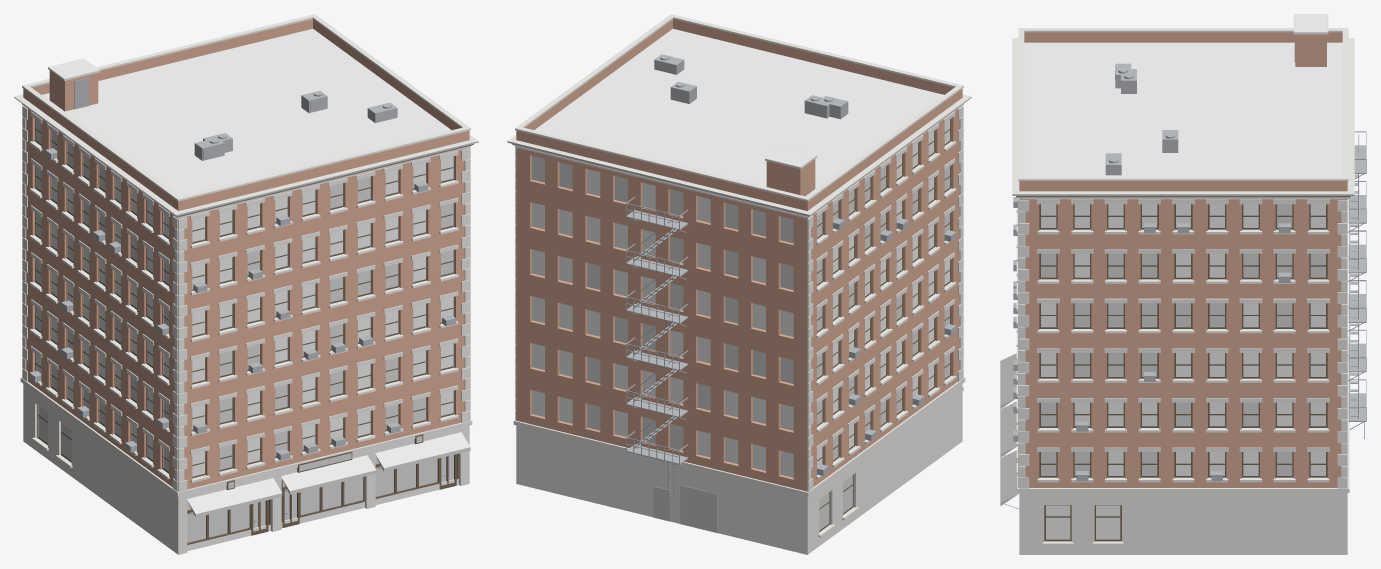
Rendered from midtown_w78f6.glb.
3 renders of one model, left to right at view 1: azimuth 30°, elevation 25°; view 2: azimuth 150°, elevation 25°; view 3: azimuth 270°, elevation 25°, orthographic. The views are drawn at different scales.
Parts seen in each view (by area): view 1: midtown_w78f6_Walls, midtown_w78f6_Trim, midtown_w78f6_Roof, midtown_w78f6_Glass, midtown_w78f6_WindowsLit, midtown_w78f6_Frames, midtown_w78f6_Awning, midtown_w78f6_Details; view 2: midtown_w78f6_Walls, midtown_w78f6_Trim, midtown_w78f6_Roof, midtown_w78f6_Glass, midtown_w78f6_WindowsLit, midtown_w78f6_Details, midtown_w78f6_Frames, midtown_w78f6_Doors; view 3: midtown_w78f6_Walls, midtown_w78f6_Trim, midtown_w78f6_Roof, midtown_w78f6_Glass, midtown_w78f6_Frames, midtown_w78f6_WindowsLit, midtown_w78f6_Details, midtown_w78f6_Awning.
Part boxes in pixels (<box>): midtown_w78f6_Walls: <box>23,19,469,489</box>; midtown_w78f6_Trim: <box>14,14,478,554</box>; midtown_w78f6_Roof: <box>42,29,451,196</box>; midtown_w78f6_Glass: <box>36,156,453,476</box>; midtown_w78f6_WindowsLit: <box>36,119,453,542</box>; midtown_w78f6_Frames: <box>35,119,459,544</box>; midtown_w78f6_Awning: <box>187,432,470,517</box>; midtown_w78f6_Details: <box>29,77,455,521</box>; midtown_w78f6_Walls: <box>516,19,962,491</box>; midtown_w78f6_Trim: <box>507,14,971,554</box>; midtown_w78f6_Roof: <box>534,29,943,195</box>; midtown_w78f6_Glass: <box>532,119,949,477</box>; midtown_w78f6_WindowsLit: <box>532,155,949,530</box>; midtown_w78f6_Details: <box>626,54,956,498</box>; midtown_w78f6_Frames: <box>817,119,950,531</box>; midtown_w78f6_Doors: <box>653,485,717,533</box>; midtown_w78f6_Walls: <box>1019,32,1347,487</box>; midtown_w78f6_Trim: <box>1012,14,1354,554</box>; midtown_w78f6_Roof: <box>1024,14,1342,176</box>; midtown_w78f6_Glass: <box>1041,204,1325,539</box>; midtown_w78f6_Frames: <box>1016,204,1327,541</box>; midtown_w78f6_WindowsLit: <box>1041,204,1325,475</box>; midtown_w78f6_Details: <box>1004,35,1366,509</box>; midtown_w78f6_Awning: <box>1000,353,1018,505</box>.
Size of the model in its own units: 81.12 by 96.54 by 80.4.
